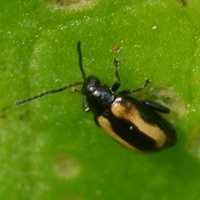insect: (16, 41, 176, 152)
